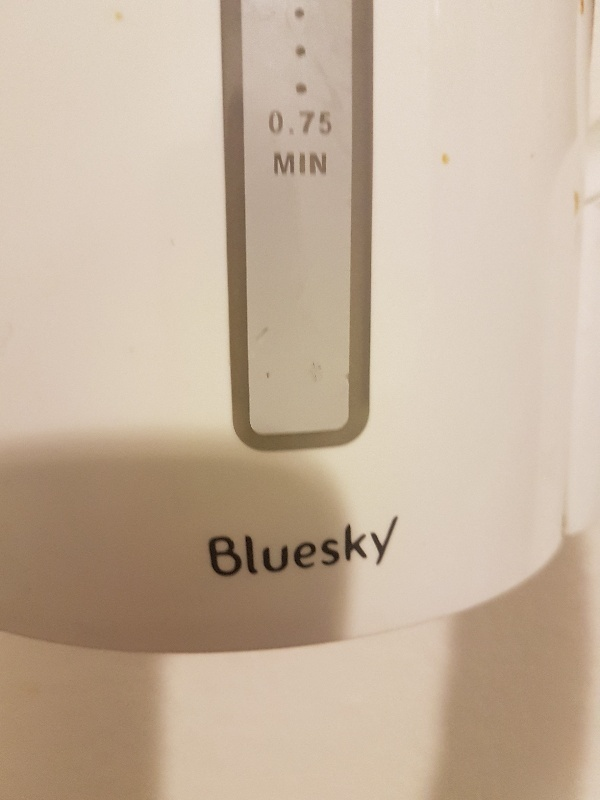text: (385, 515, 401, 579), (209, 515, 224, 579), (225, 515, 240, 579), (241, 515, 256, 579), (257, 515, 272, 579), (273, 515, 288, 579), (289, 515, 304, 579), (305, 515, 320, 579), (321, 515, 336, 579), (337, 515, 352, 579), (353, 515, 368, 579), (369, 515, 384, 579), (273, 108, 288, 136), (289, 108, 304, 136), (305, 108, 320, 136), (321, 108, 336, 136), (273, 149, 288, 177), (289, 149, 304, 177), (305, 149, 320, 177), (321, 149, 327, 177), (206, 515, 208, 579), (268, 108, 272, 136)
